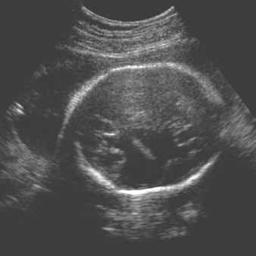abnormal: (67, 61, 226, 200)
